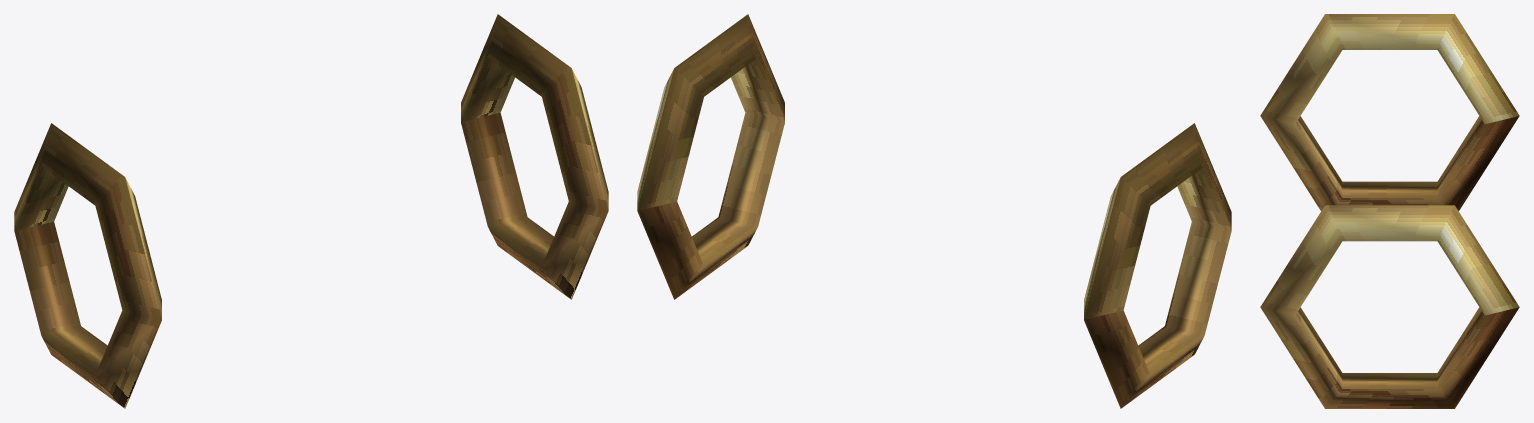
File: maur_earrings_fem_1.dae
3 renders of one model, left to right at view 1: azimuth 30°, elevation 25°; view 2: azimuth 150°, elevation 25°; view 3: azimuth 270°, elevation 25°, orthographic. The views are drawn at different scales.
Parts seen in each view (by area): view 1: Torus002; view 2: Torus002; view 3: Torus002.
Boxes of the visible parts, box(x1,y1,x2,y2) form: Torus002: box(14, 14, 608, 408); Torus002: box(637, 14, 1231, 408); Torus002: box(1260, 14, 1519, 408).
Bounding box in the file's own units: 0.4113 × 0.1875 × 0.2165.
